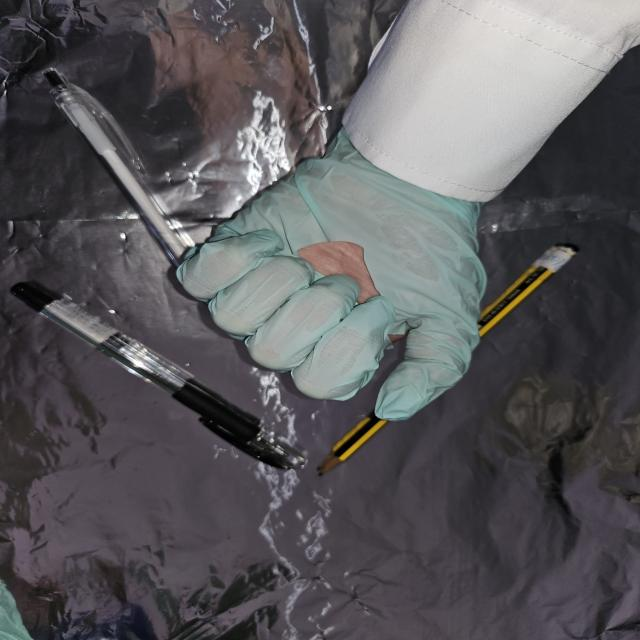gloves_damaged: (172, 125, 486, 420)
